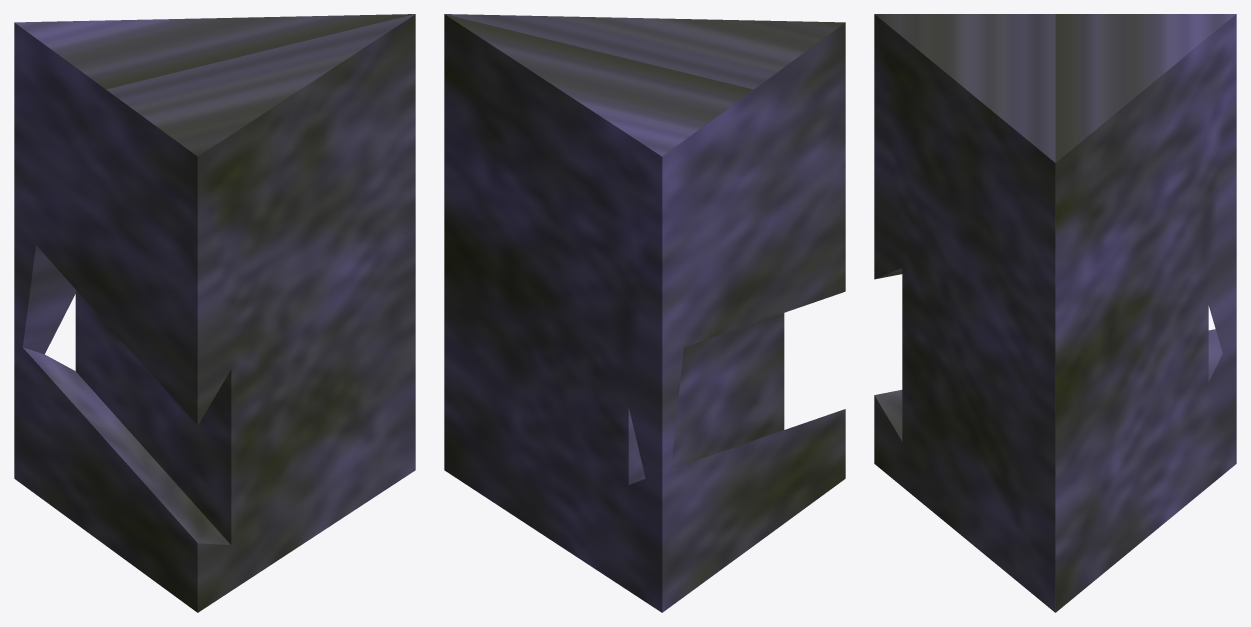
3 views of the same model, side by side, from view 1: azimuth 30°, elevation 25°; view 2: azimuth 150°, elevation 25°; view 3: azimuth 270°, elevation 25° (orthographic).
Parts seen in each view (by area): view 1: geometry_0; view 2: geometry_0; view 3: geometry_0.
Boxes of the visible parts, x1,y1,x2,y2 form: geometry_0: [14, 14, 415, 612]; geometry_0: [444, 14, 845, 612]; geometry_0: [874, 14, 1236, 612].
Bounding box in the file's own units: 0.7793 × 1.1 × 0.7999.
Materials: 1 (1 with a texture image).
